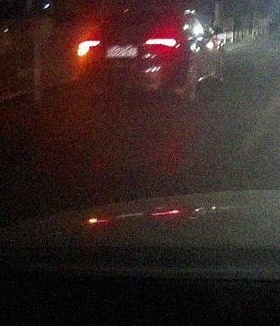L_light: (78, 40, 101, 56)
R_light: (144, 39, 177, 55)
T_light: (120, 15, 139, 21)
night-left: (77, 8, 181, 102)
